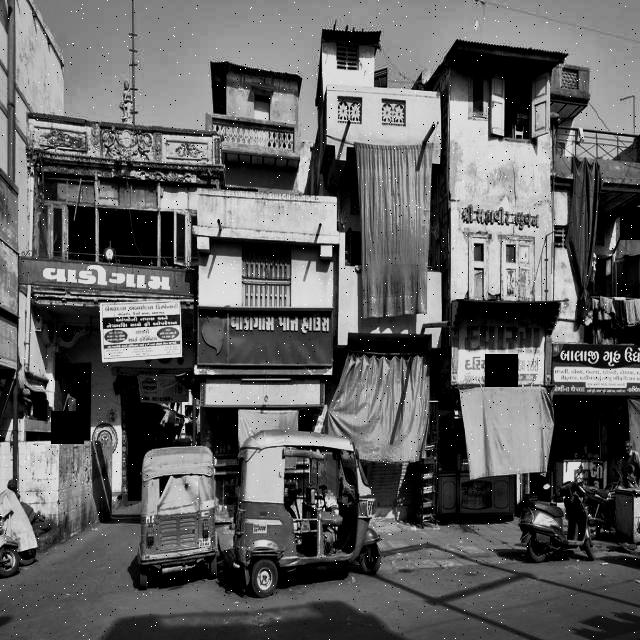Auto-Rickshaw: (224, 423, 388, 607), (132, 438, 232, 603)
